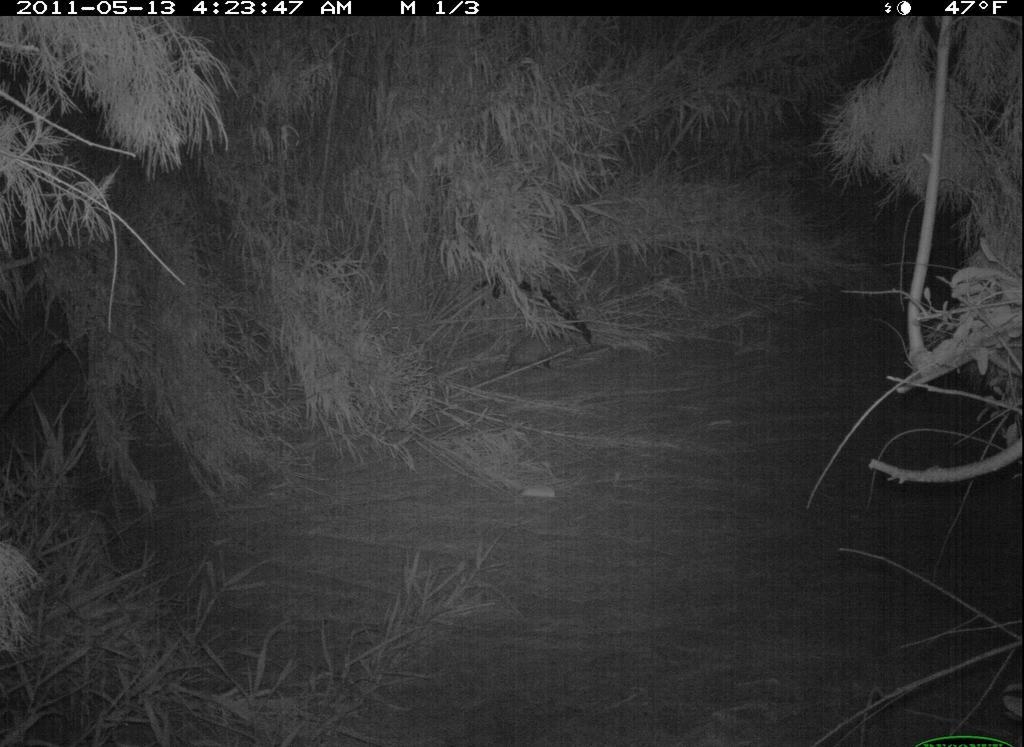opossum: (496, 312, 597, 383)
